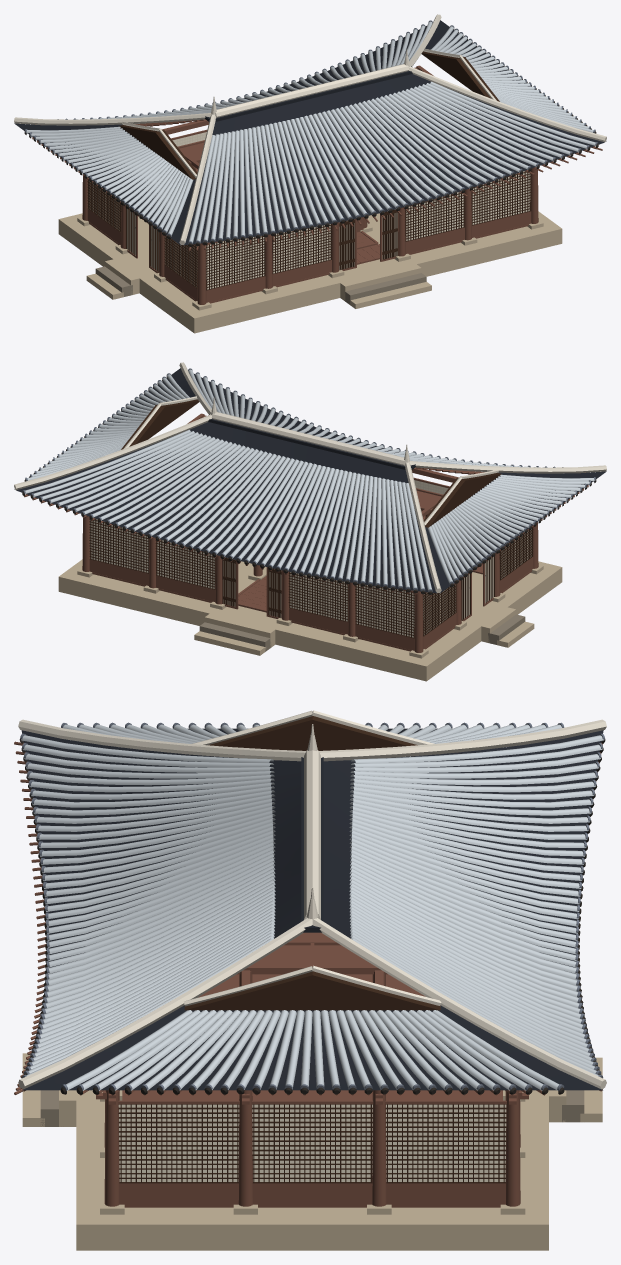
The model's file is hanok-anchae.glb.
The picture shows the model from 3 angles, top to bottom: view 1: azimuth 30°, elevation 25°; view 2: azimuth 150°, elevation 25°; view 3: azimuth 270°, elevation 25°; orthographic projection. The views are drawn at different scales.
Parts seen in each view (by area): view 1: GEO-anchae-roof, GEO-anchae-stone, GEO-anchae-lattice, GEO-anchae-paper, GEO-anchae-timber, GEO-anchae-ridge, GEO-anchae-steps, GEO-anchae-columns, GEO-anchae-caps, GEO-anchae-gable; view 2: GEO-anchae-roof, GEO-anchae-stone, GEO-anchae-lattice, GEO-anchae-paper, GEO-anchae-timber, GEO-anchae-ridge, GEO-anchae-steps, GEO-anchae-columns, GEO-anchae-caps, GEO-anchae-gable; view 3: GEO-anchae-roof, GEO-anchae-stone, GEO-anchae-paper, GEO-anchae-timber, GEO-anchae-ridge, GEO-anchae-lattice, GEO-anchae-gable, GEO-anchae-columns, GEO-anchae-caps, GEO-anchae-steps.
Boxes of the visible parts, x1,y1,x2,y2 form: GEO-anchae-roof: (14,20,606,245); GEO-anchae-stone: (58,211,562,333); GEO-anchae-lattice: (87,170,531,290); GEO-anchae-paper: (89,132,530,289); GEO-anchae-timber: (32,65,602,303); GEO-anchae-ridge: (14,14,606,244); GEO-anchae-steps: (86,259,431,308); GEO-anchae-columns: (82,163,538,304); GEO-anchae-caps: (24,20,598,246); GEO-anchae-gable: (119,51,499,179); GEO-anchae-roof: (14,368,606,593); GEO-anchae-stone: (58,559,562,681); GEO-anchae-lattice: (89,518,533,638); GEO-anchae-paper: (90,480,531,637); GEO-anchae-timber: (24,413,588,651); GEO-anchae-ridge: (14,362,606,592); GEO-anchae-steps: (194,607,534,655); GEO-anchae-columns: (82,511,538,652); GEO-anchae-caps: (22,368,596,594); GEO-anchae-gable: (121,399,501,527); GEO-anchae-roof: (21,724,604,1090); GEO-anchae-stone: (76,1090,548,1250); GEO-anchae-paper: (118,1104,506,1181); GEO-anchae-timber: (14,741,602,1207); GEO-anchae-ridge: (18,710,606,1089); GEO-anchae-lattice: (118,1104,506,1183); GEO-anchae-gable: (184,716,440,1010); GEO-anchae-columns: (104,971,520,1206); GEO-anchae-caps: (19,722,605,1094); GEO-anchae-steps: (22,1053,602,1126).
Size of the model in its own units: 16.15 by 5.96 by 11.1.
